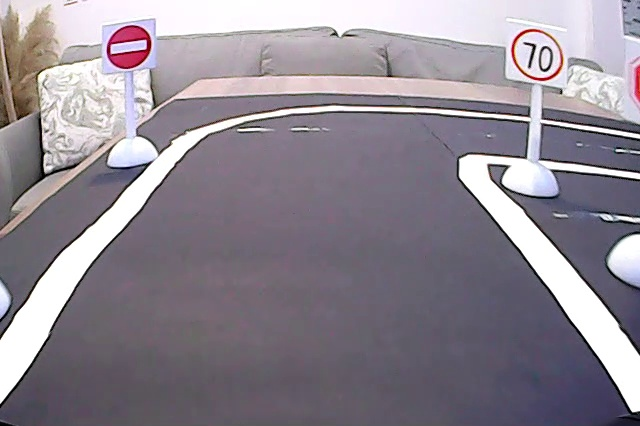do not enter: (101, 19, 157, 74)
speed limit 70: (506, 19, 569, 87)
